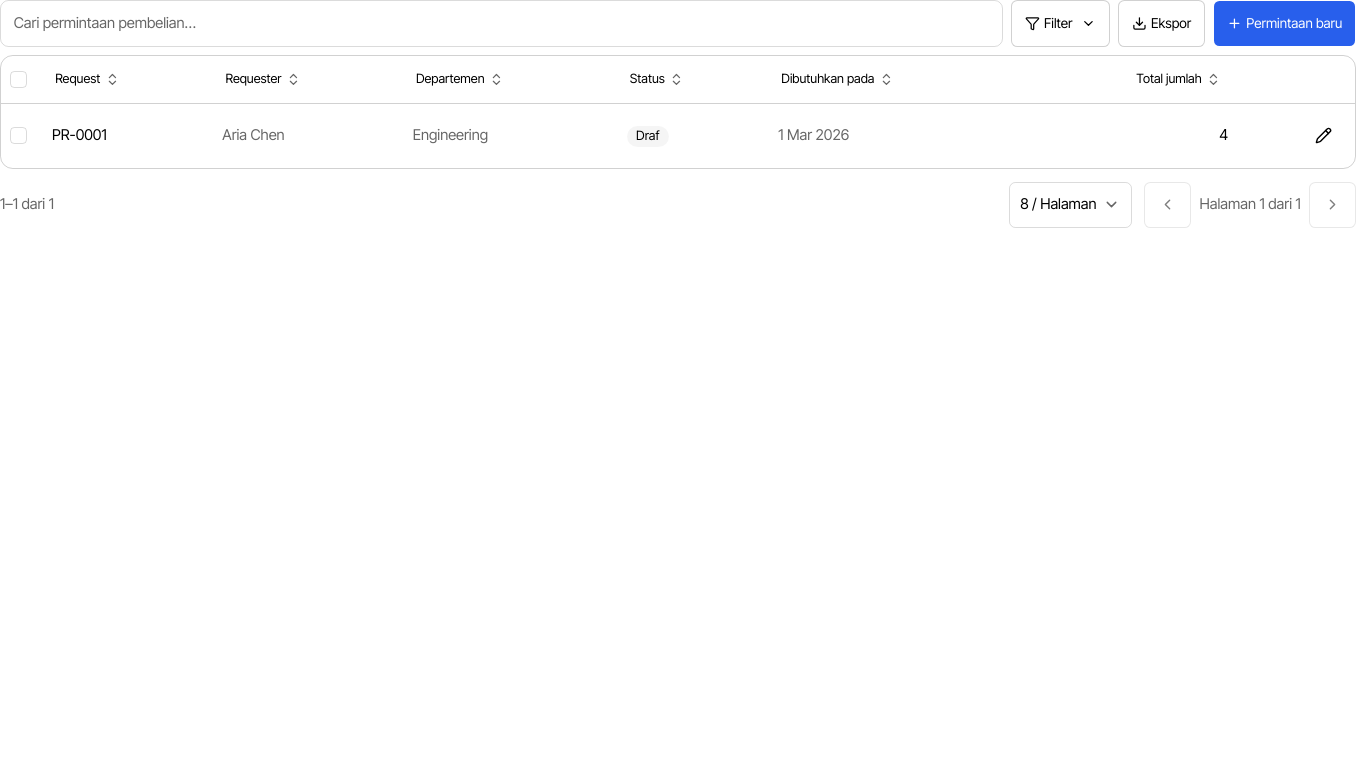
Test: PurchaseRequestsSection › opens the create dialog from the add button
The width and height of the screenshot is (1366, 768).
Expected: the link "PR-0001" is shown, [52,126,107,144]
What coordinates should you click on to do the following:
click the button "Permintaan baru"
I would click on:
 (1285, 23)
Its box is [1213,0,1356,47].
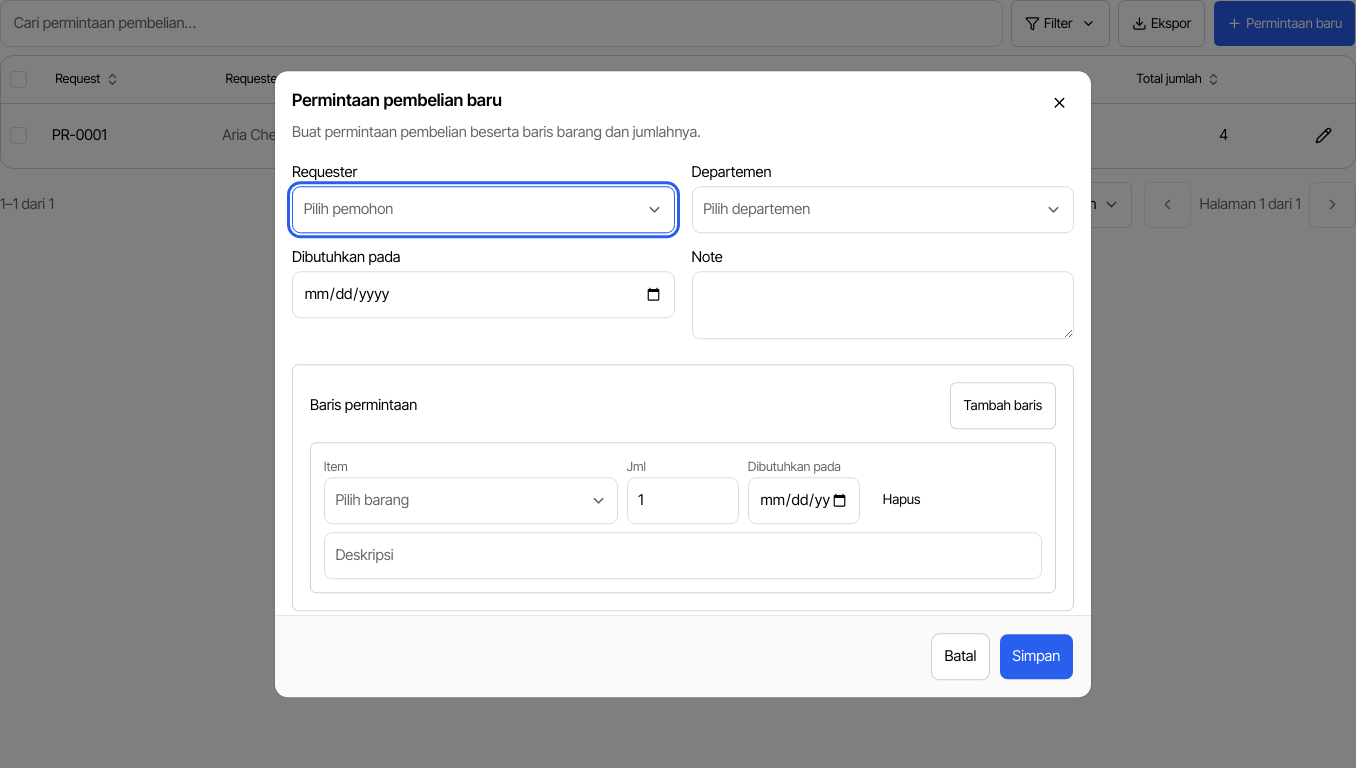
Now the dialog is shown, box [275,71,1091,697]
Now the heading "Permintaan pembelian baru" is shown, box [292,88,502,114]
